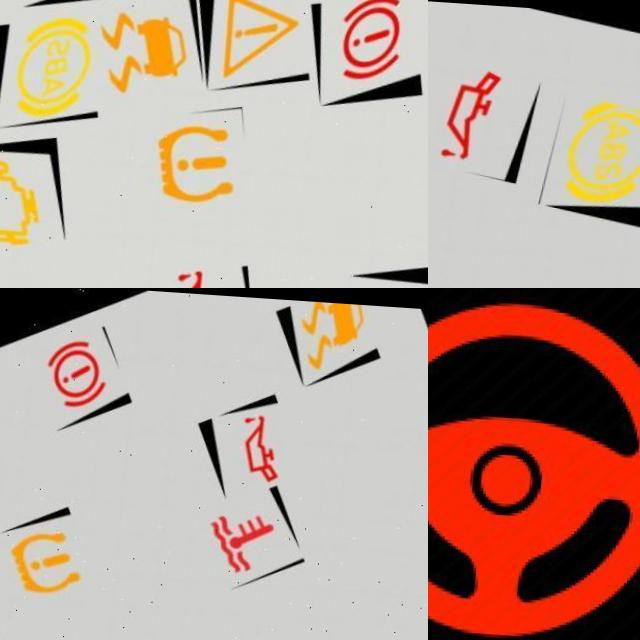Electronic Power Steering: (428, 288, 640, 640)
